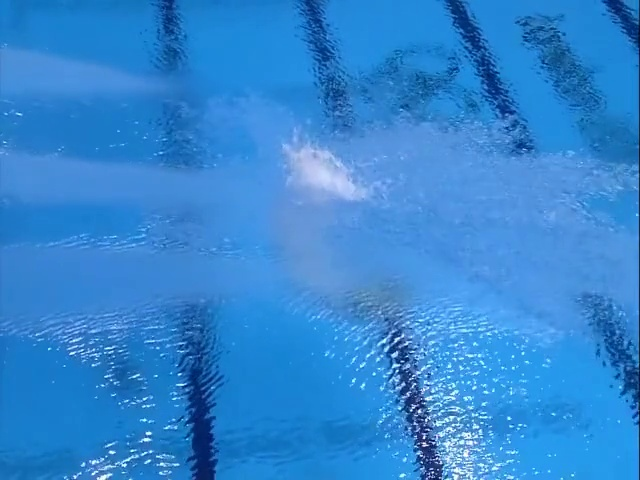splash: (283, 118, 397, 202)
